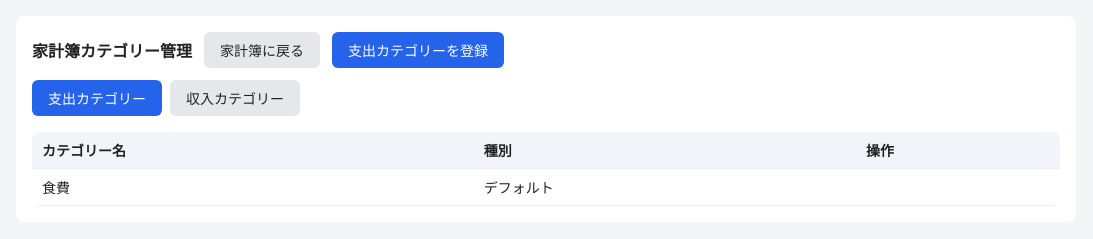
KakeiboCategoriesPage › 収入カテゴリータブに切り替えると収入カテゴリー一覧が表示される
The image size is (1093, 239).
Expected: the text "食費" is shown, [32, 168, 474, 206]
Click the tab "収入カテゴリー". click: (235, 98)
box: [170, 80, 300, 116]
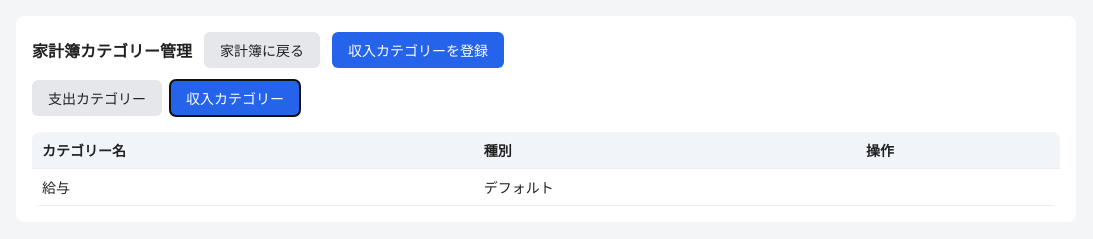
Expected: the text "給与" is shown, [32, 168, 474, 206]
Expected: the text "食費" is gone
